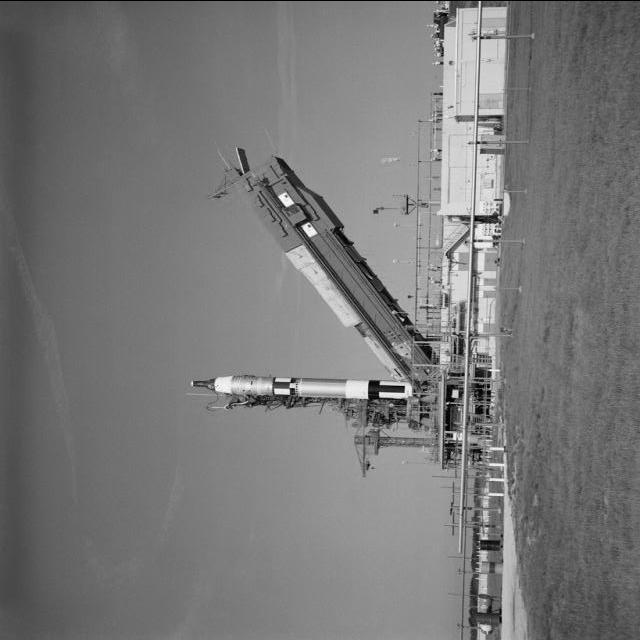missile: (181, 373, 413, 401)
